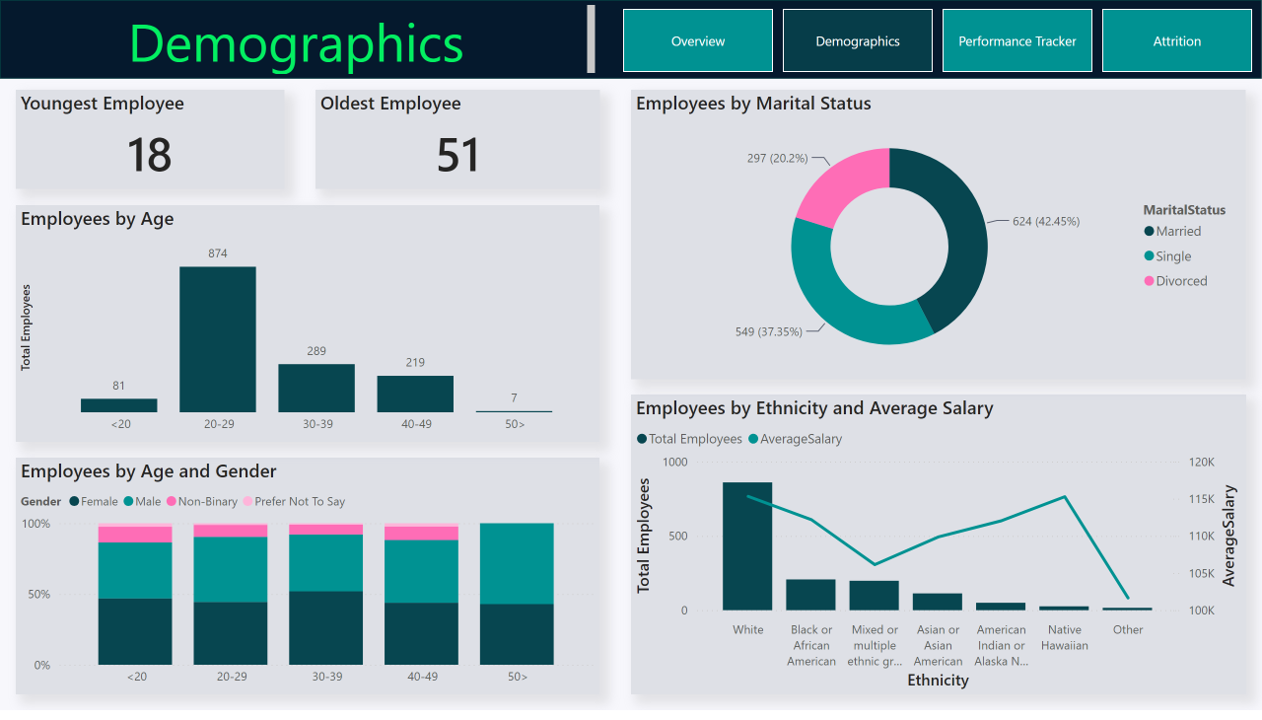

What the dashboard file says about the page in this screenshot:
{"tool":"powerbi","page":{"name":"Demographics","canvas":[1280,720],"ordinal":1},"visuals":[{"type":"columnChart","title":"Employees by Age","fields":{"Category":["DimEmployee.AgeBins"],"Y":["DimDate.TotalEmployees"]},"box":[16,208,592,240],"z":0},{"type":"hundredPercentStackedColumnChart","title":"Employees by Age and Gender","fields":{"Category":["DimEmployee.AgeBins"],"Series":["DimEmployee.Gender"],"Y":["DimDate.TotalEmployees"]},"box":[16,464,592,240],"z":1000},{"type":"donutChart","title":"Employees by Marital Status","fields":{"Category":["DimEmployee.MaritalStatus"],"Y":["DimDate.TotalEmployees"]},"box":[640.5,90.8,623.3,293.3],"z":2000},{"type":"lineStackedColumnComboChart","title":"Employees by Ethnicity and Average Salary","fields":{"Category":["DimEmployee.Ethnicity"],"Y":["DimDate.TotalEmployees"],"Y2":["DimDate.AverageSalary"]},"box":[640,400,624,304],"z":3000},{"type":"shape","box":[0,0,1279.8,79.8],"z":4000},{"type":"textbox","box":[0,0,608.6,79.8],"z":5000},{"type":"pageNavigator","box":[631.9,8.6,640,64],"z":6000},{"type":"card","title":"Youngest Employee","fields":{"Values":["Min(DimEmployee.Age)"]},"box":[16,90.8,272.4,100.6],"z":7000},{"type":"card","title":"Oldest Employee","fields":{"Values":["Max(DimEmployee.Age)"]},"box":[320.2,90.8,288.3,100.6],"z":8000}]}

Visuals, with their boxes in screenshot pixels (x1, y1, x2, y2), scaled from the page's 1280x720 canvas onto the 1262x720 screenshot:
"Employees by Age" columnChart: 16,208,599,448
"Employees by Age and Gender" hundredPercentStackedColumnChart: 16,464,599,704
"Employees by Marital Status" donutChart: 631,91,1246,384
"Employees by Ethnicity and Average Salary" lineStackedColumnComboChart: 631,400,1246,704
shape: 0,0,1261,80
textbox: 0,0,600,80
pageNavigator: 623,9,1254,73
"Youngest Employee" card: 16,91,284,191
"Oldest Employee" card: 316,91,600,191
